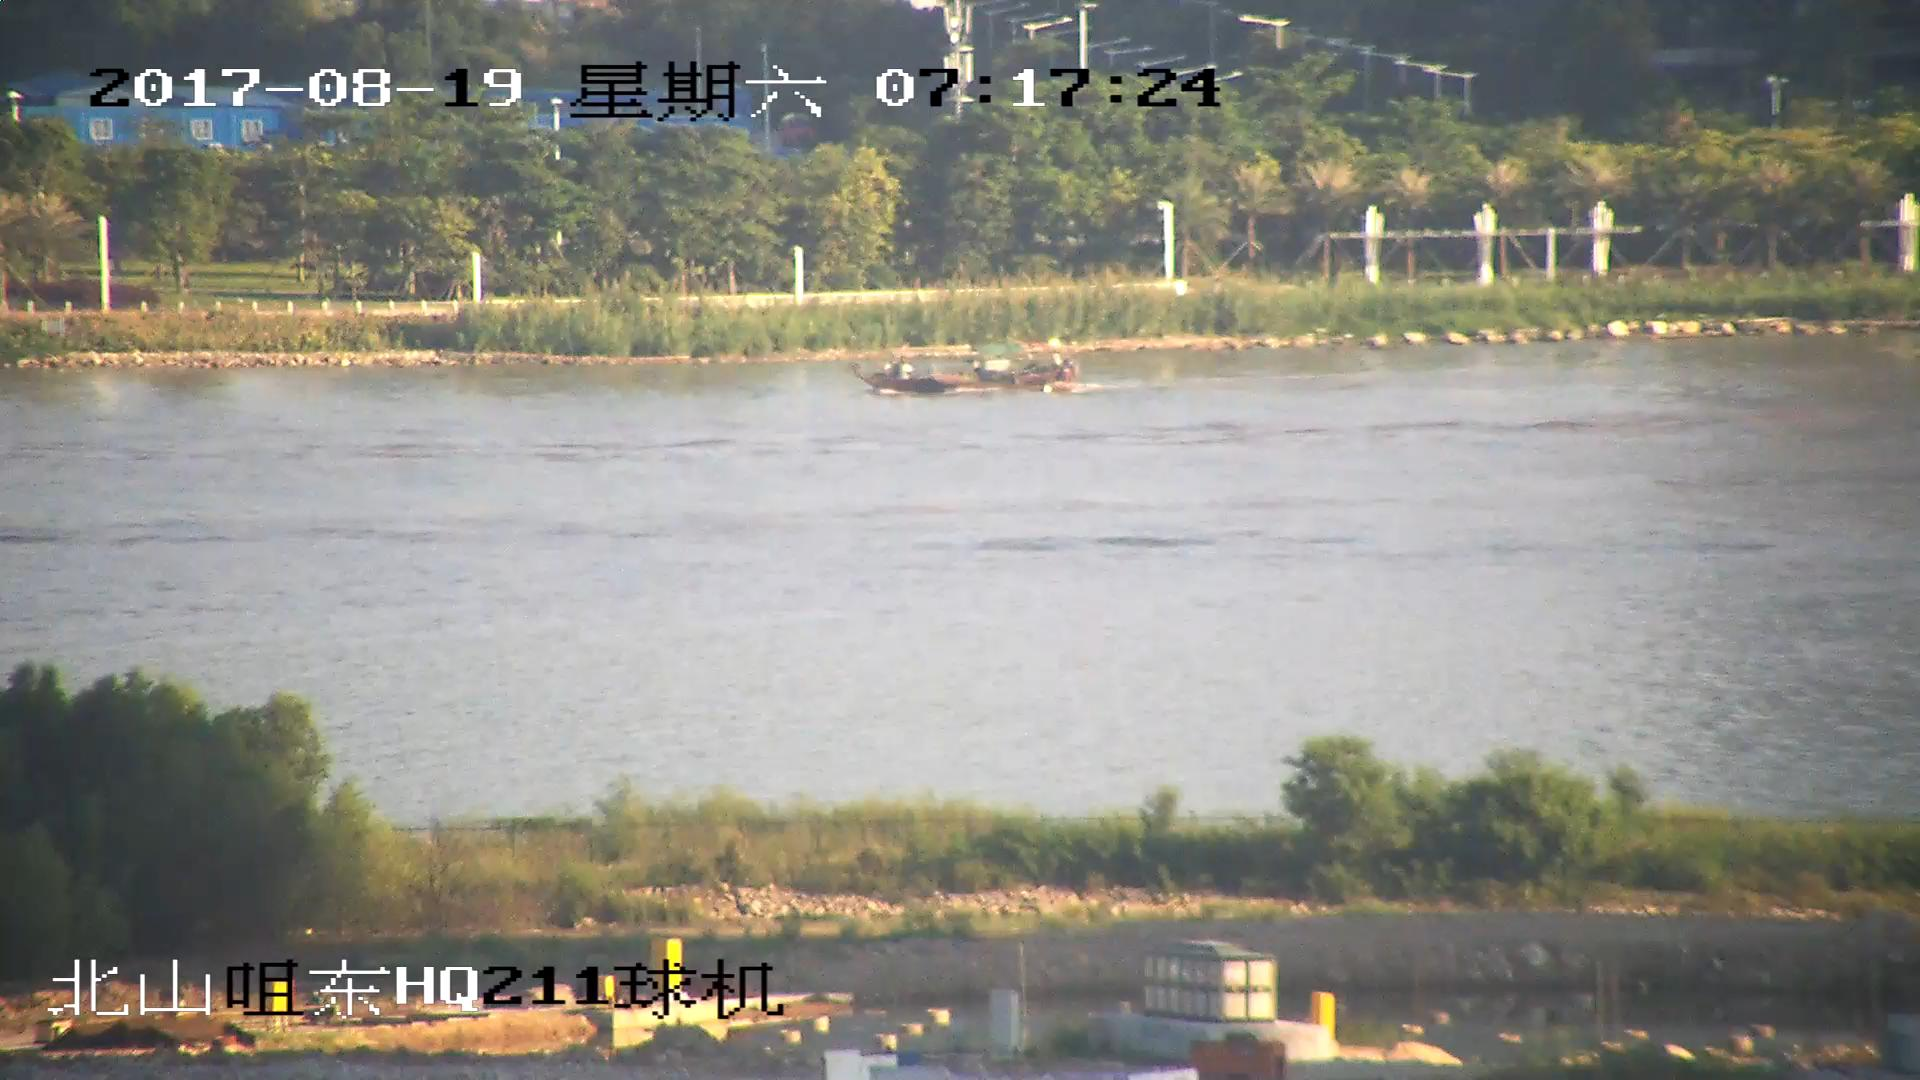fishing boat: (857, 345, 1079, 397)
